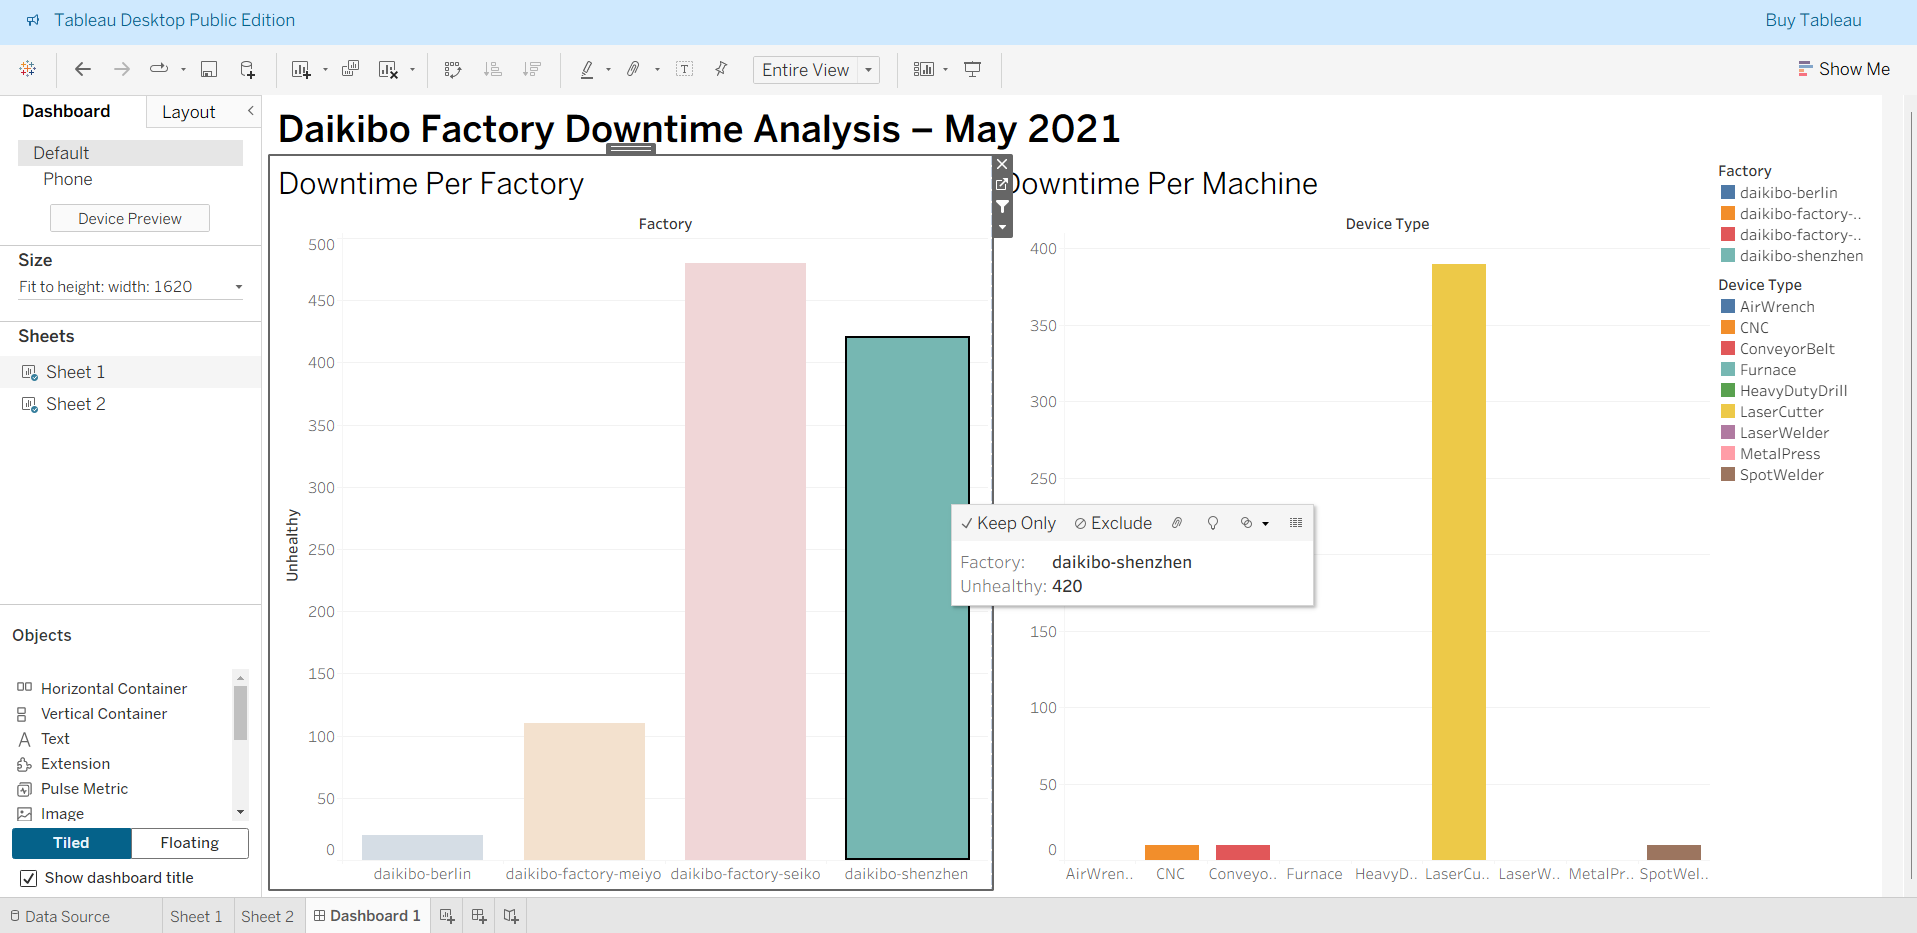

What the dashboard file says about the page in this screenshot:
{"tool":"tableau","page":{"name":"Dashboard 1","canvas":[1000,1000],"units":"permille","ordinal":0},"visuals":[{"type":"title","box":[4.9,10,990.1,66.1]},{"type":"worksheet","title":"Sheet 1","mark":"Automatic","rows":["Calculation_1002241828937728"],"cols":["factory"],"box":[4.9,76.1,445.7,914]},{"type":"worksheet","title":"Sheet 2","mark":"Automatic","rows":["Calculation_1002241828937728"],"cols":["deviceType"],"box":[450.6,76.1,445.7,914]},{"type":"legend","title":"Sheet 1","param":"[federated.0o6ija80zvpswg18rf2ki1506vfj].[none:factory:nk]","box":[896.3,76.1,98.8,142.2]},{"type":"legend","title":"Sheet 2","param":"[federated.0o6ija80zvpswg18rf2ki1506vfj].[none:deviceType:nk]","box":[896.3,218.2,98.8,273.1]}]}

Visuals, with their boxes on the dashboard's canvas, which has no fixed pixel size, in thousandths of its width and height (x1, y1, x2, y2). These are canvas units, not pixel positions in the 1917x933 screenshot, which may show the page scaled, cropped or inside an application window:
title: x1=5, y1=10, x2=995, y2=76
"Sheet 1" worksheet: x1=5, y1=76, x2=451, y2=990
"Sheet 2" worksheet: x1=451, y1=76, x2=896, y2=990
"Sheet 1" legend: x1=896, y1=76, x2=995, y2=218
"Sheet 2" legend: x1=896, y1=218, x2=995, y2=491
